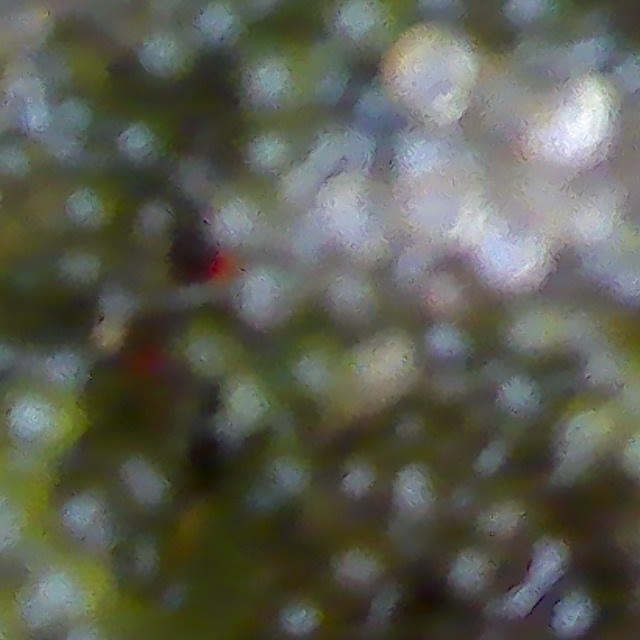SeaGrape: (381, 23, 481, 125), (519, 72, 608, 171), (395, 130, 481, 227), (35, 549, 119, 626), (478, 227, 545, 287), (139, 24, 195, 80), (115, 118, 166, 167)
